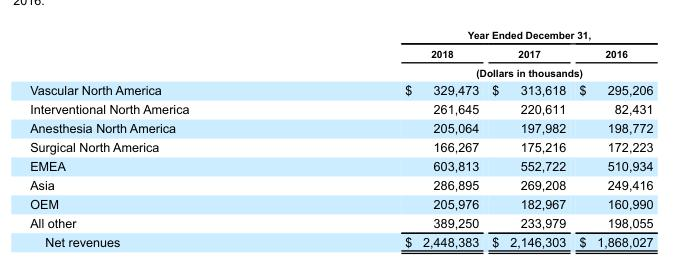table: (29, 29, 652, 248)
table column: (29, 29, 296, 248), (296, 29, 484, 248), (484, 29, 571, 248), (571, 29, 652, 248)
table column header: (29, 29, 652, 80)
table row: (29, 44, 652, 63), (29, 80, 652, 99), (29, 99, 652, 118), (29, 118, 652, 137), (29, 137, 652, 156), (29, 156, 652, 175), (29, 175, 652, 194), (29, 194, 652, 213), (29, 213, 652, 232), (29, 63, 652, 80), (29, 232, 652, 248), (29, 29, 652, 44)
table spanning cell: (296, 63, 652, 80), (296, 29, 652, 44)
